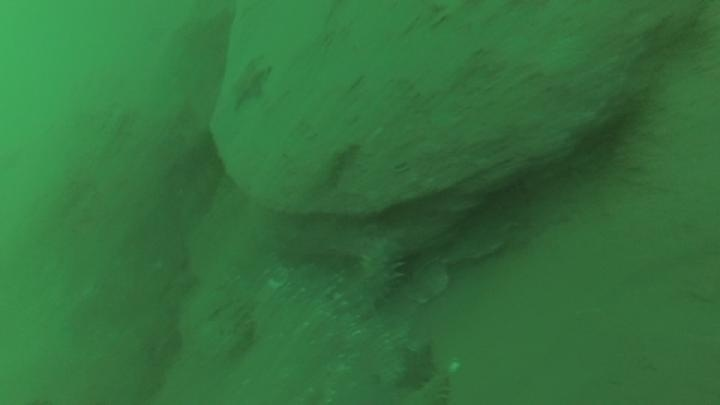holothurian: (341, 233, 411, 319), (312, 139, 363, 194)
starfish: (223, 56, 276, 114), (393, 339, 441, 392)
